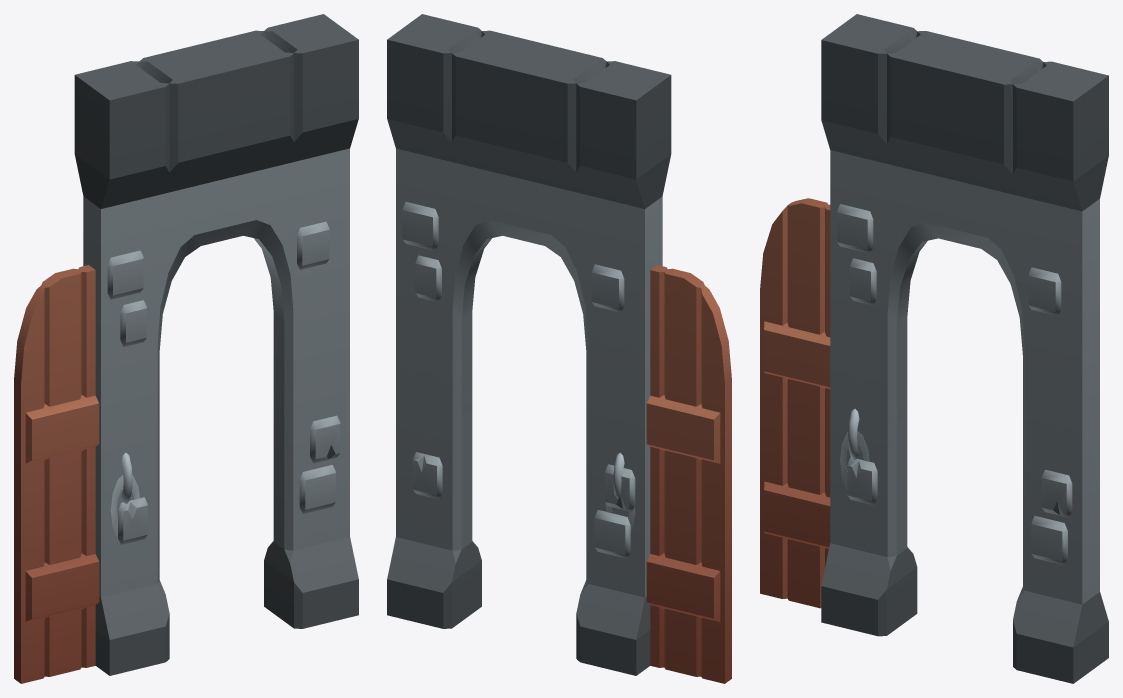
Rendered from wall_doorway.glb.
3 renders of one model, left to right at view 1: azimuth 30°, elevation 25°; view 2: azimuth 150°, elevation 25°; view 3: azimuth 330°, elevation 25°, orthographic.
Parts seen in each view (by area): view 1: wall_doorway, wall_doorway_door; view 2: wall_doorway, wall_doorway_door; view 3: wall_doorway, wall_doorway_door.
Part boxes in pixels (left/top/right/bottom): wall_doorway: left=74, top=14, right=358, bottom=675; wall_doorway_door: left=14, top=265, right=139, bottom=683; wall_doorway: left=387, top=14, right=671, bottom=675; wall_doorway_door: left=605, top=265, right=731, bottom=683; wall_doorway: left=821, top=14, right=1108, bottom=683; wall_doorway_door: left=760, top=198, right=869, bottom=608.
Size of the model in its own units: 1.41 by 2.4 by 0.2652.
1 material, 1 textured.
